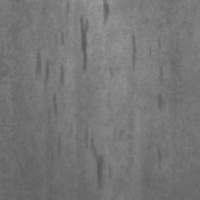inclusion: (33, 31, 70, 114), (73, 125, 107, 187), (77, 15, 93, 77), (46, 90, 64, 142), (127, 31, 143, 75), (99, 1, 112, 27), (154, 90, 167, 116), (153, 145, 165, 173), (156, 62, 167, 86)
